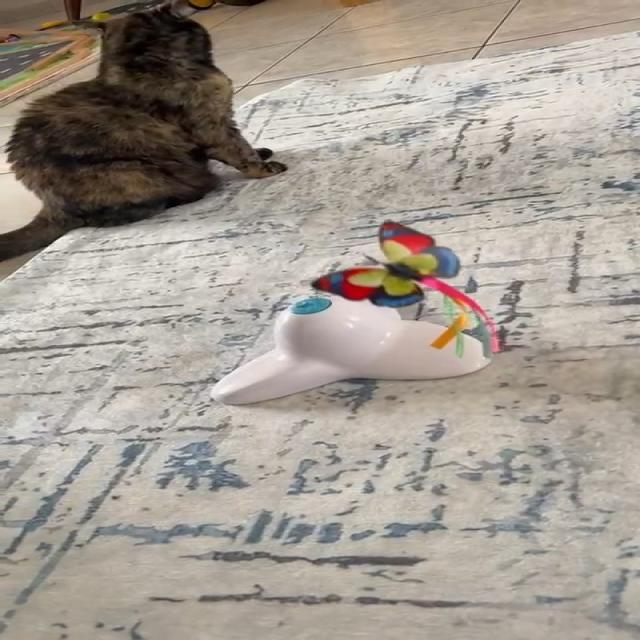authorized: (0, 0, 287, 263)
